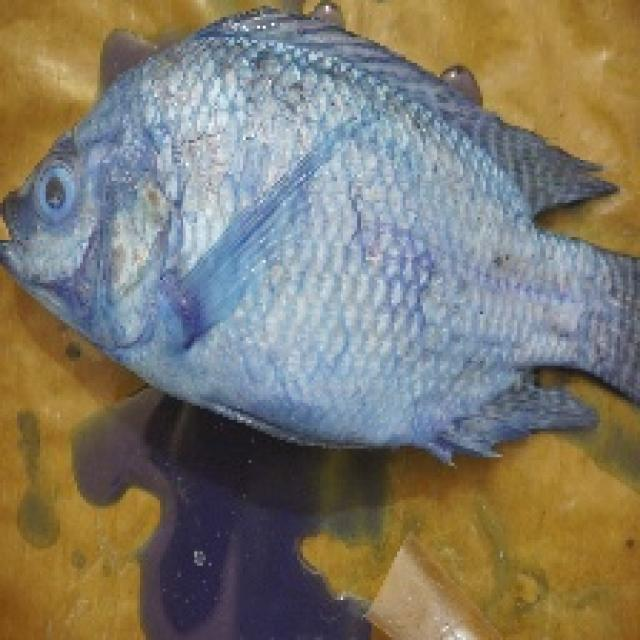Non-Fresh: (3, 22, 481, 414), (24, 156, 102, 234)
